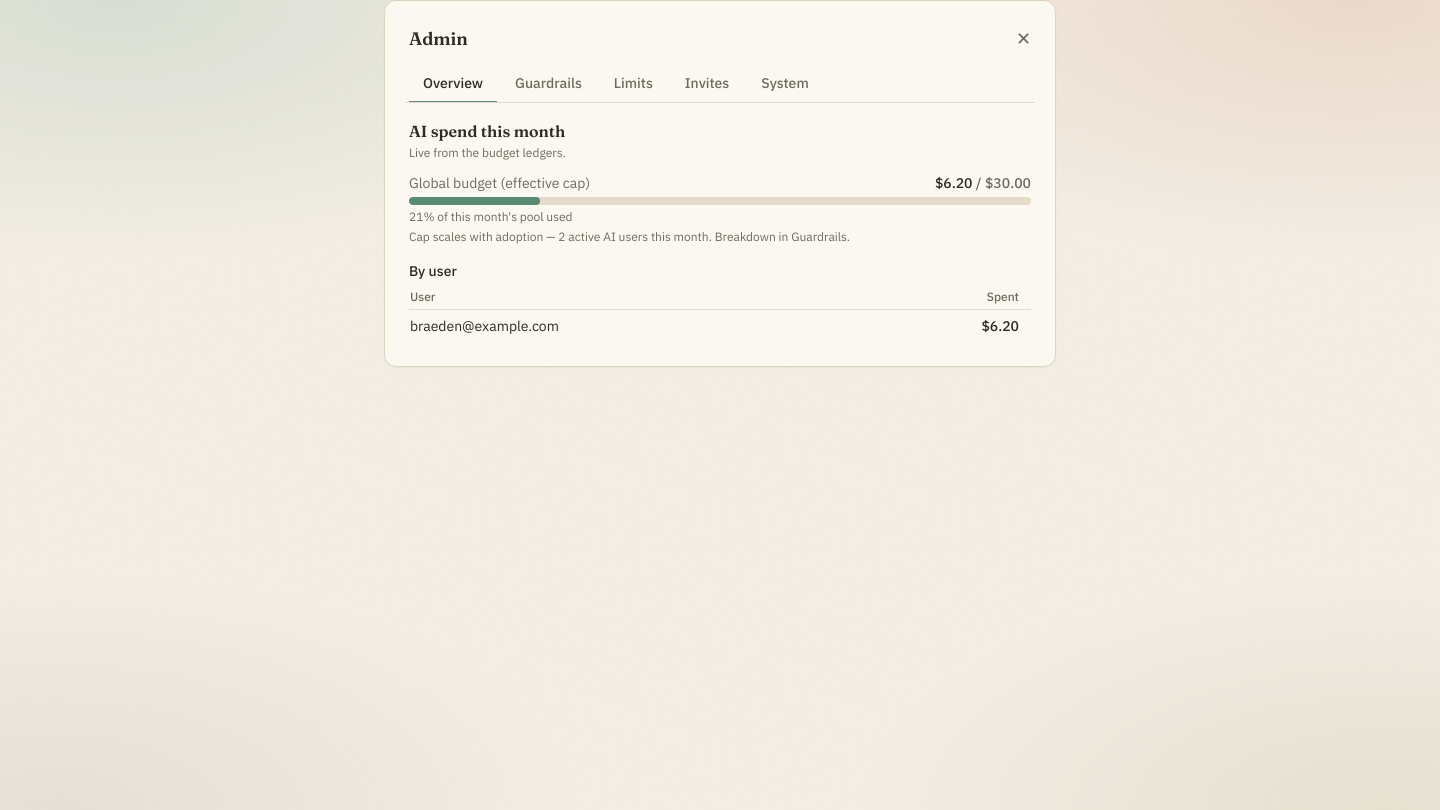
AdminPage › Guardrails tab labels base, active count, effective cap, and manual ceiling distinctly
Click the tab "Guardrails": click(548, 84) [501,65,596,103]
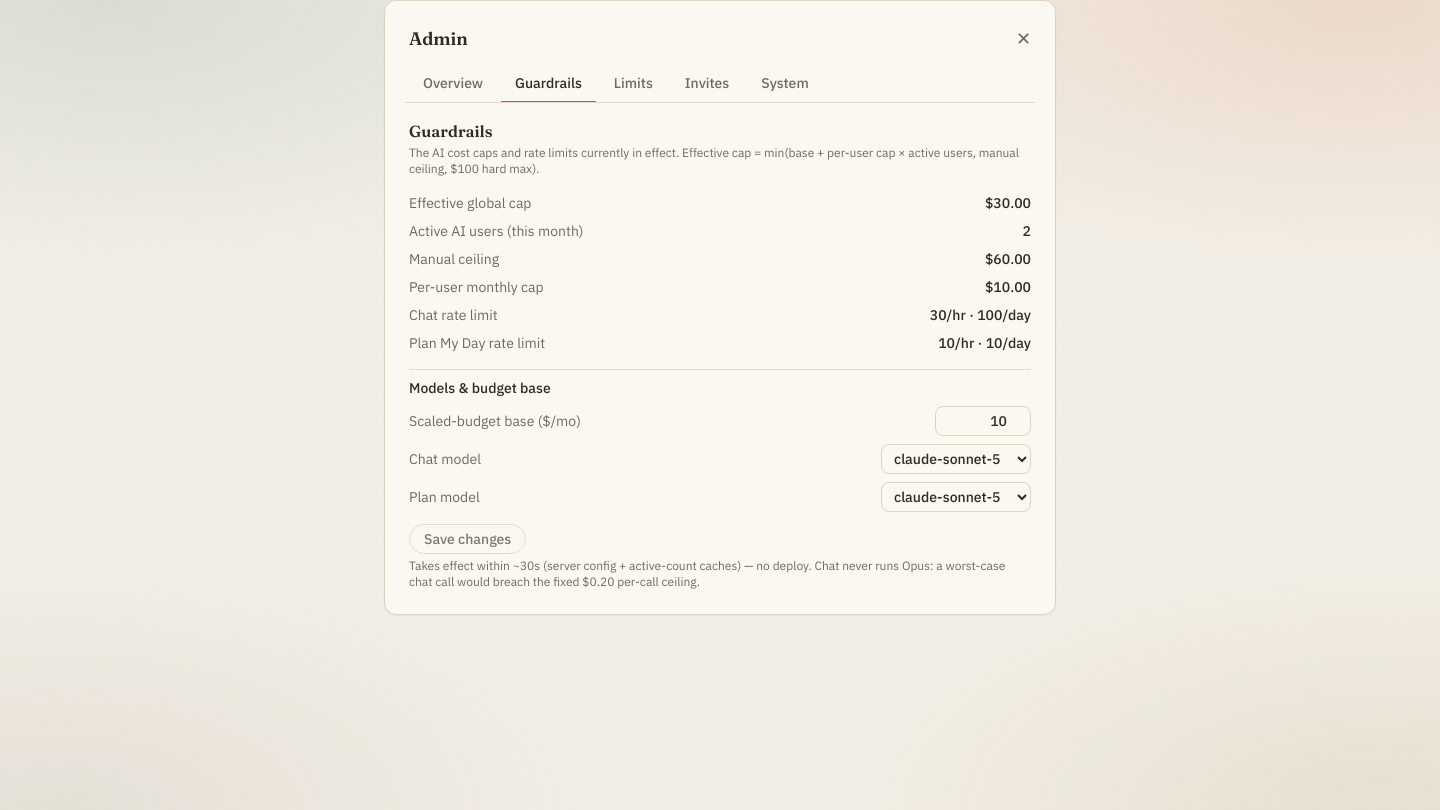
Check: the text "Effective global cap" is shown, box [409,193,532,213]
Check: the text "Manual ceiling" is shown, box [409,249,499,269]
Check: the text "$60.00" is shown, box [985,249,1031,269]
